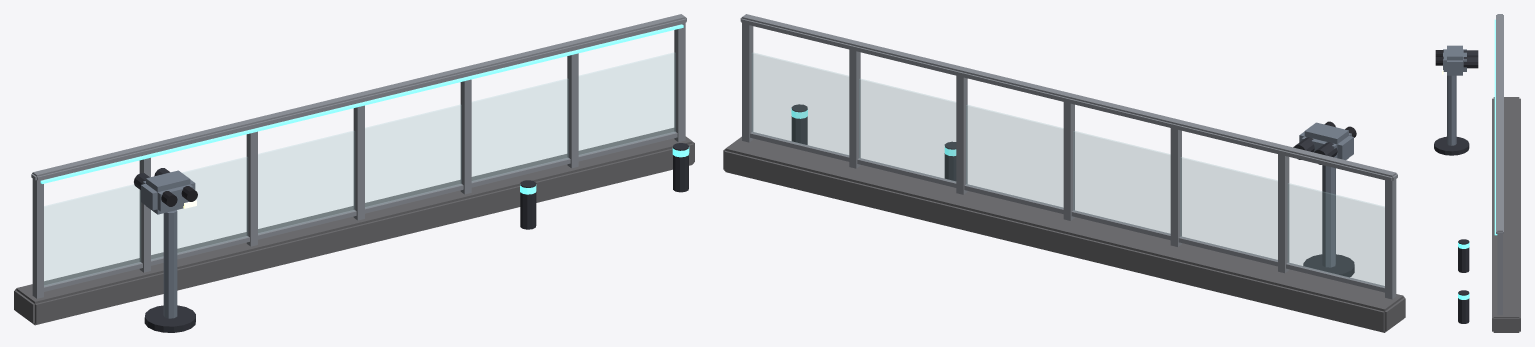
File: railing.glb
The picture shows the model from 3 angles, left to right: view 1: azimuth 30°, elevation 25°; view 2: azimuth 150°, elevation 25°; view 3: azimuth 270°, elevation 25°; orthographic projection. The views are drawn at different scales.
Parts seen in each view (by area): view 1: Glass, Kerb, Post, Handrail glow, Viewer post, Viewer base; view 2: Glass, Kerb, Post, Viewer post, Viewer base; view 3: Kerb, Post, Viewer base, Viewer post, Handrail glow, Viewer eyepiece.
Part boxes in pixels (x1,y1,x2,y2): Glass: (44,52,675,286); Kerb: (14,127,694,325); Post: (31,14,686,298); Handrail glow: (40,24,689,194); Viewer post: (141,170,195,318); Viewer base: (134,143,688,332); Glass: (752,52,1384,286); Kerb: (723,136,1405,332); Post: (740,14,1397,299); Viewer post: (1299,122,1353,267); Viewer base: (791,104,1354,277); Kerb: (1492,97,1520,332); Post: (1496,14,1503,315); Viewer base: (1434,50,1478,323); Viewer post: (1443,45,1466,145); Handrail glow: (1458,19,1497,299); Viewer eyepiece: (1435,50,1443,65).
Bounding box in the file's own units: 6.5 × 1.38 × 1.08.
